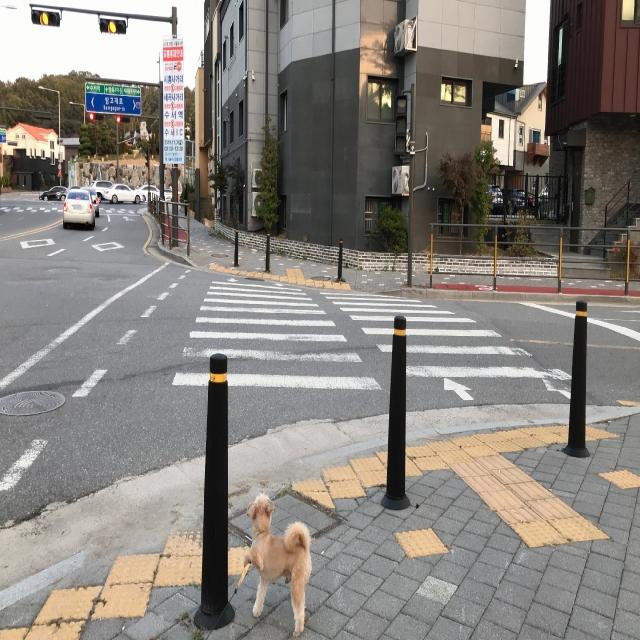횡단보도: (170, 276, 574, 404)
